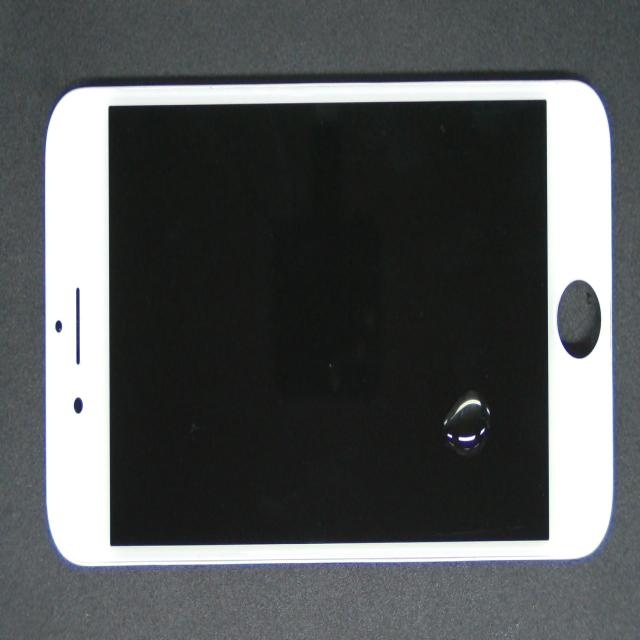oil: (254, 185, 640, 621)
